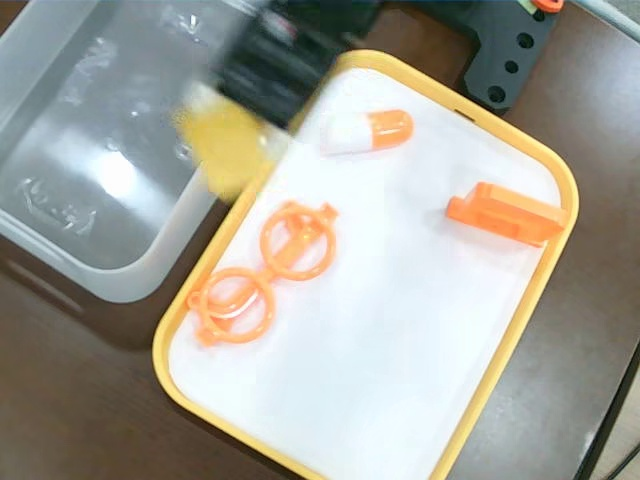pill: (320, 110, 413, 155)
